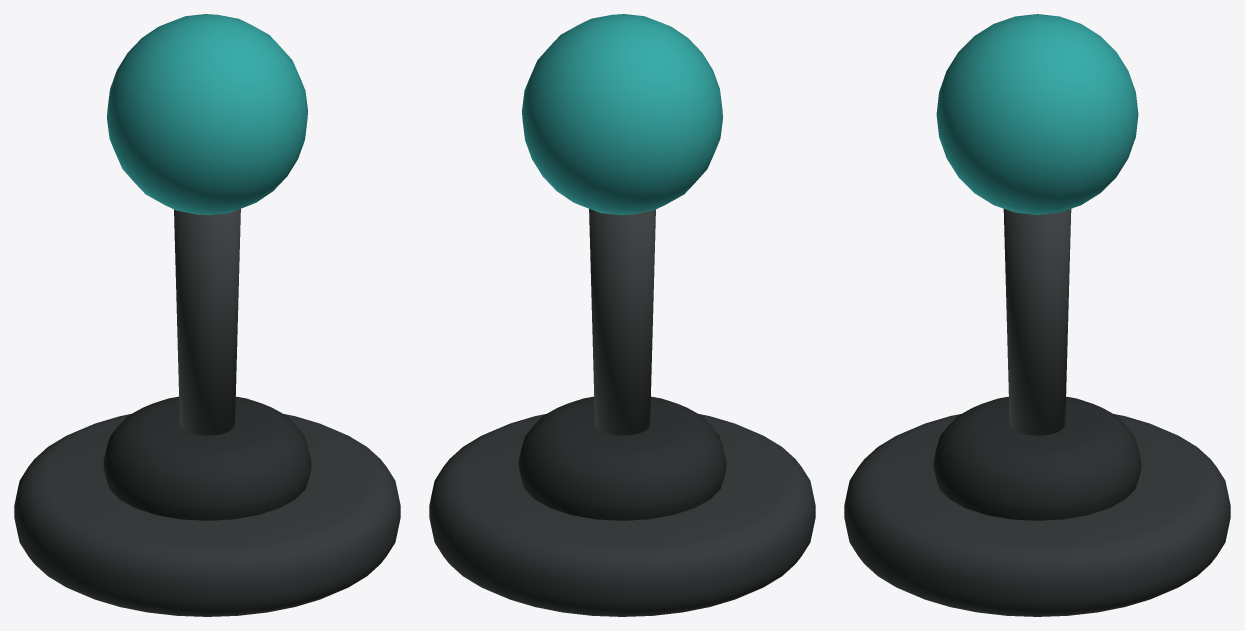
File: joystick.glb
The picture shows the model from 3 angles, left to right: view 1: azimuth 30°, elevation 25°; view 2: azimuth 150°, elevation 25°; view 3: azimuth 270°, elevation 25°; orthographic projection.
Visible parts, largest first — view 1: Base, Knob, Boot, Shaft; view 2: Base, Knob, Boot, Shaft; view 3: Base, Knob, Boot, Shaft.
Boxes of the visible parts, box(x1,y1,x2,y2) form: Base: box(14, 414, 400, 616); Knob: box(107, 14, 307, 215); Boot: box(103, 396, 311, 520); Shaft: box(174, 209, 240, 435); Base: box(429, 414, 815, 616); Knob: box(522, 14, 722, 215); Boot: box(518, 396, 726, 520); Shaft: box(589, 209, 655, 435); Base: box(844, 414, 1230, 616); Knob: box(936, 14, 1138, 214); Boot: box(933, 396, 1141, 520); Shaft: box(1003, 209, 1071, 435).
Bounding box in the file's own units: 0.13 × 0.194 × 0.13.
